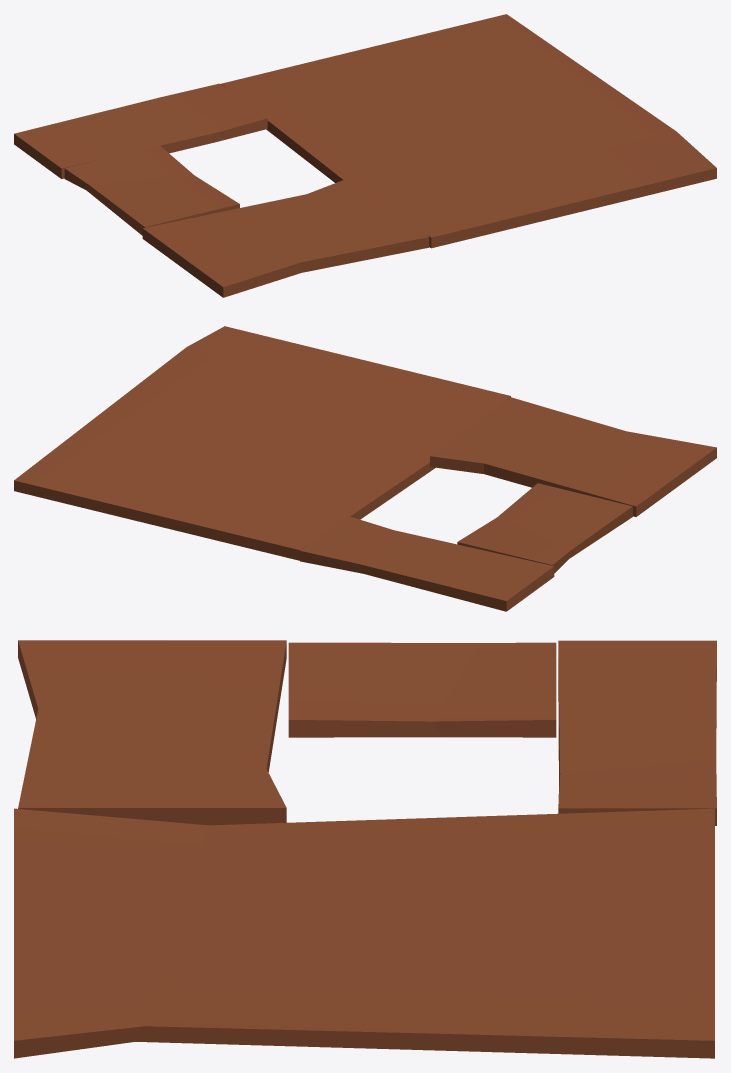
The model's file is Floor with gap 1.fbx.
3 renders of one model, top to bottom at view 1: azimuth 30°, elevation 25°; view 2: azimuth 150°, elevation 25°; view 3: azimuth 270°, elevation 25°, orthographic. The views are drawn at different scales.
Visible parts, largest first — view 1: Floor with gap 1; view 2: Floor with gap 1; view 3: Floor with gap 1.
Part boxes in pixels (x1,y1,x2,y2): Floor with gap 1: [14, 14, 716, 297]; Floor with gap 1: [14, 326, 716, 611]; Floor with gap 1: [14, 640, 716, 1058].
Size of the model in its own units: 412 by 21.56 by 305.
